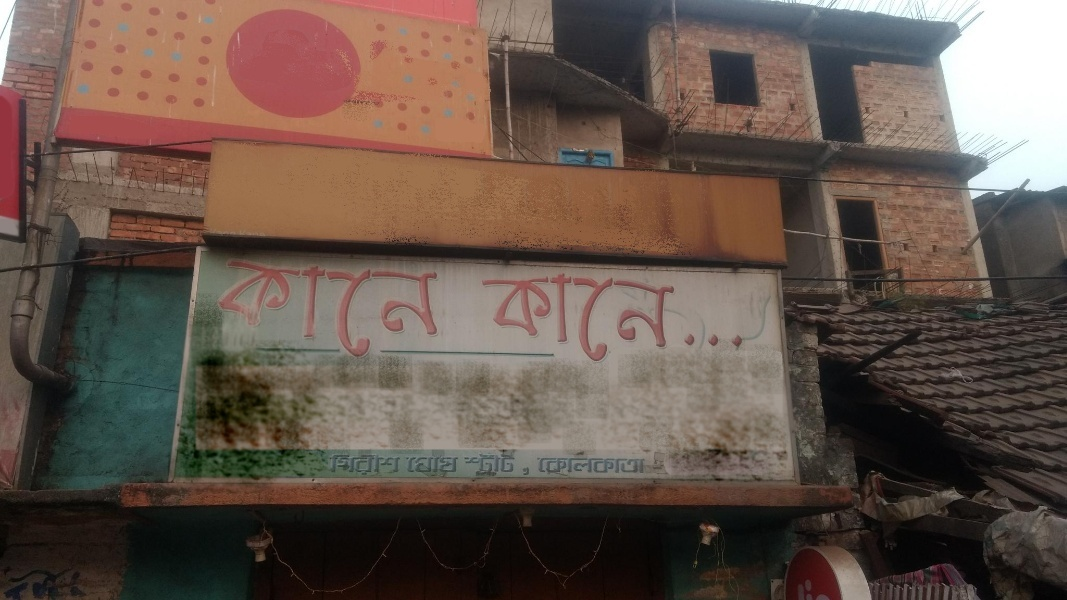text: (241, 260, 256, 362), (257, 260, 272, 362), (273, 260, 288, 362), (289, 260, 304, 362), (305, 260, 320, 362), (321, 260, 336, 362), (337, 260, 352, 362), (353, 260, 368, 362), (369, 260, 384, 362), (385, 260, 400, 362), (401, 260, 416, 362), (417, 260, 432, 362), (657, 276, 673, 360), (227, 260, 240, 362), (497, 276, 512, 360), (513, 276, 528, 360), (529, 276, 544, 360), (545, 276, 560, 360), (561, 276, 576, 360), (577, 276, 592, 360), (593, 276, 608, 360), (609, 276, 624, 360), (625, 276, 640, 360), (641, 276, 656, 360), (484, 276, 496, 360), (433, 260, 441, 362), (465, 453, 480, 477), (481, 453, 496, 477), (497, 453, 512, 477), (337, 453, 352, 473), (353, 453, 368, 473), (369, 453, 384, 473), (385, 453, 400, 473), (545, 457, 560, 476), (561, 457, 576, 476), (577, 457, 592, 476), (593, 457, 608, 476), (609, 457, 624, 476), (625, 457, 640, 476), (417, 457, 432, 473), (433, 457, 448, 473), (406, 457, 416, 473), (449, 457, 458, 473), (329, 453, 336, 473), (537, 457, 544, 476), (641, 457, 647, 476), (513, 453, 517, 477), (401, 453, 402, 473)
